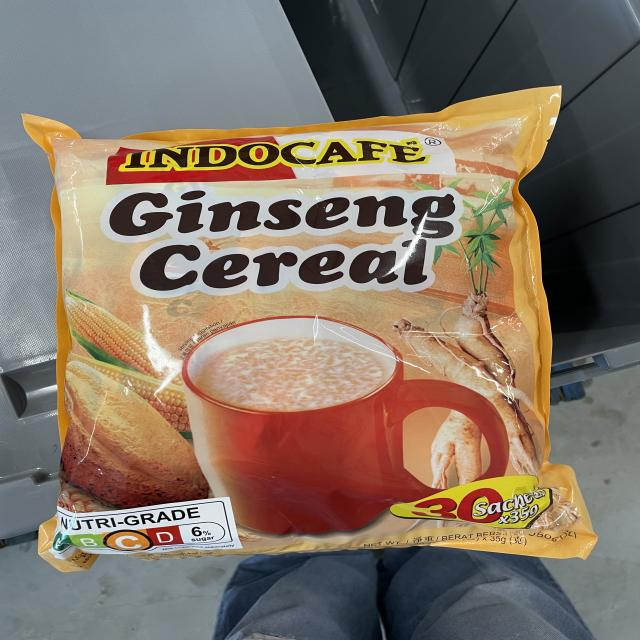object_name: (43, 131, 570, 562)
